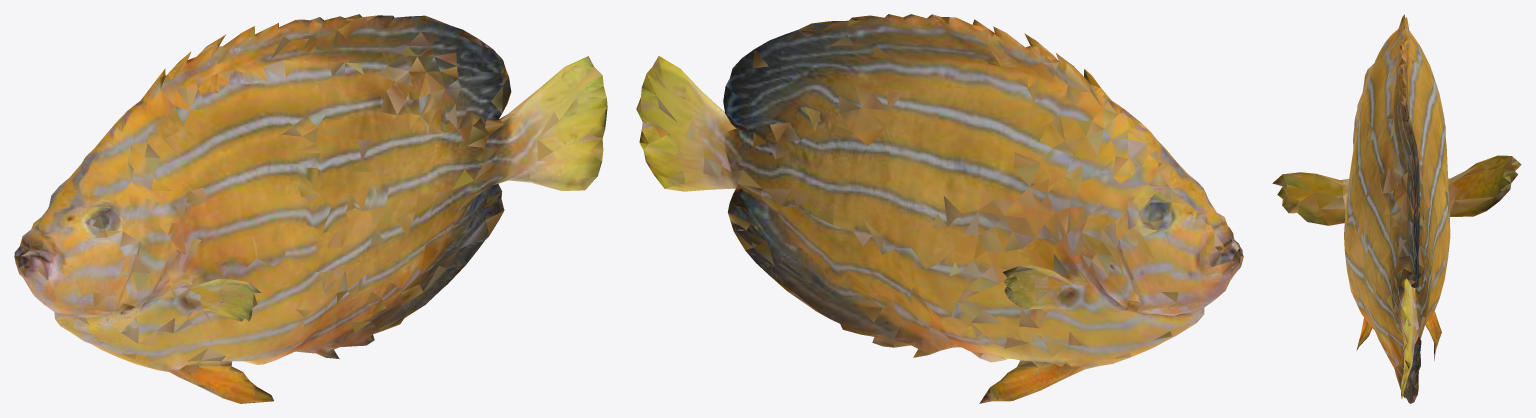
The model's file is angelfish.glb.
3 renders of one model, left to right at view 1: azimuth 30°, elevation 25°; view 2: azimuth 150°, elevation 25°; view 3: azimuth 270°, elevation 25°, orthographic. The views are drawn at different scales.
Parts seen in each view (by area): view 1: body; view 2: body; view 3: body.
Boxes of the visible parts, box(x1,y1,x2,y2) form: body: box(14, 14, 607, 403); body: box(636, 14, 1243, 403); body: box(1272, 14, 1521, 403).
Bounding box in the file's own units: 0.9983 × 0.5828 × 0.4018.
Materials: 1 (1 with a texture image).
